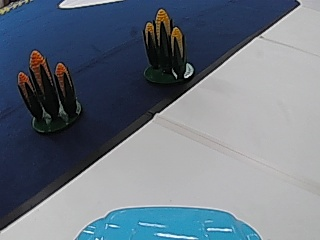corn: (16, 47, 84, 131), (140, 4, 194, 83)
